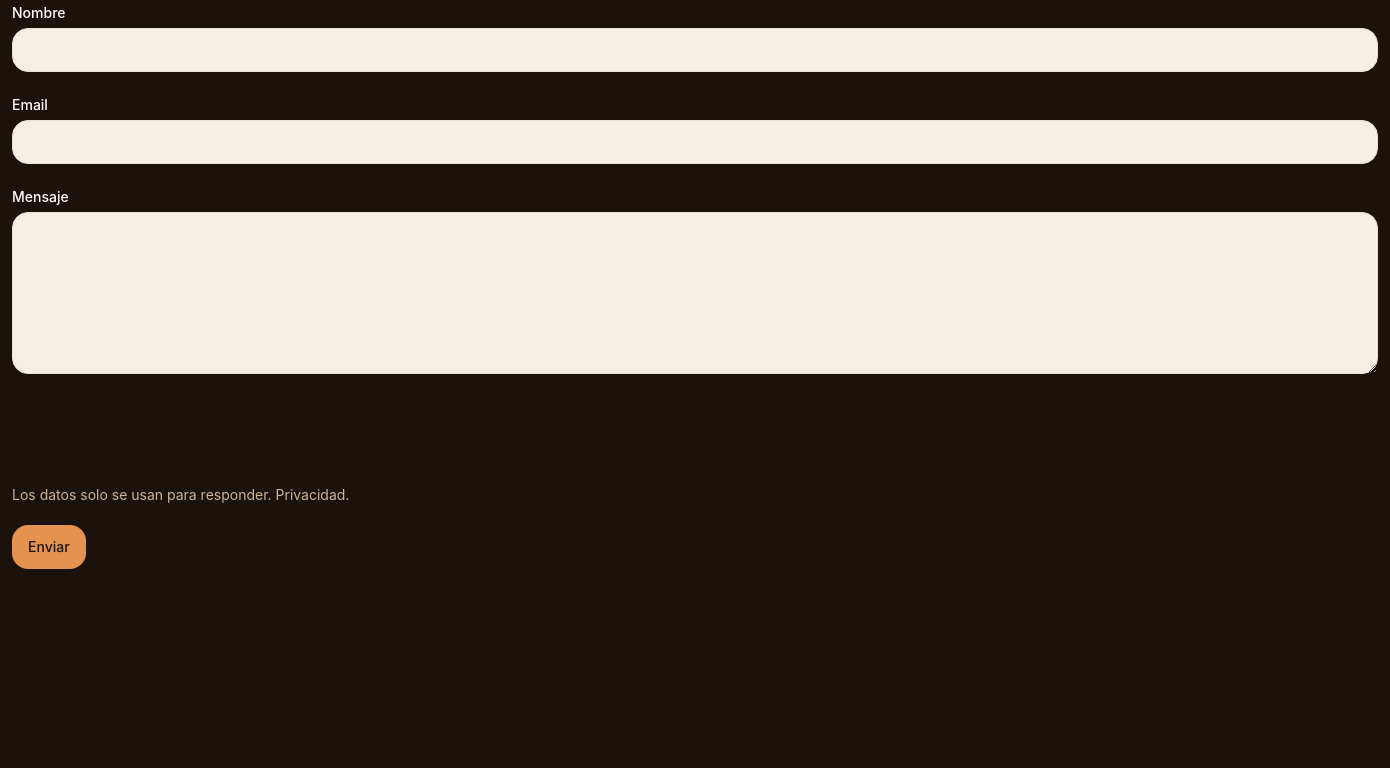
Test case: ContactForm › no envía sin token de Turnstile
Type "Ada" into the field labelled "Nombre".
click(695, 50); type("Ada")  # box [12, 28, 1378, 72]
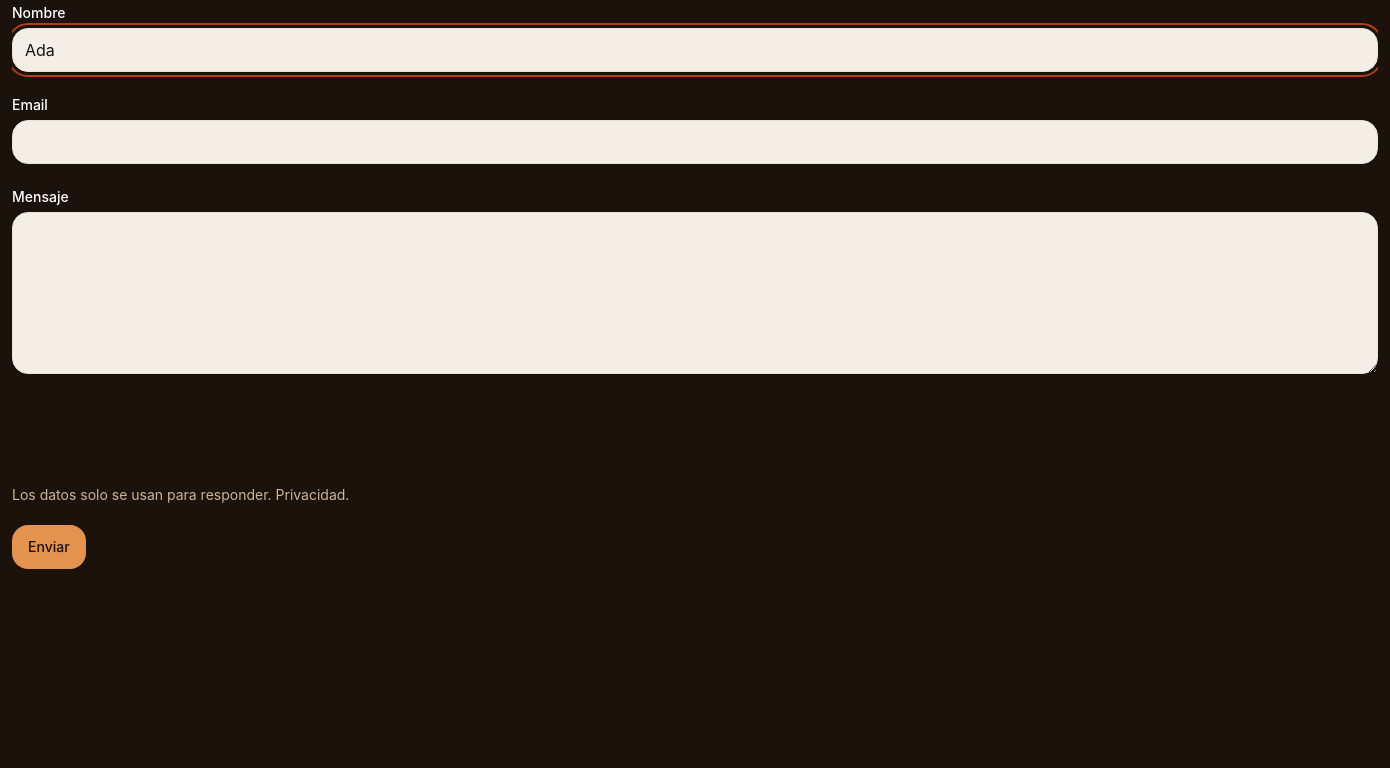
Type "ada@example.com" into the field labelled "Email".
click(695, 142); type("ada@example.com")  # box [12, 120, 1378, 164]
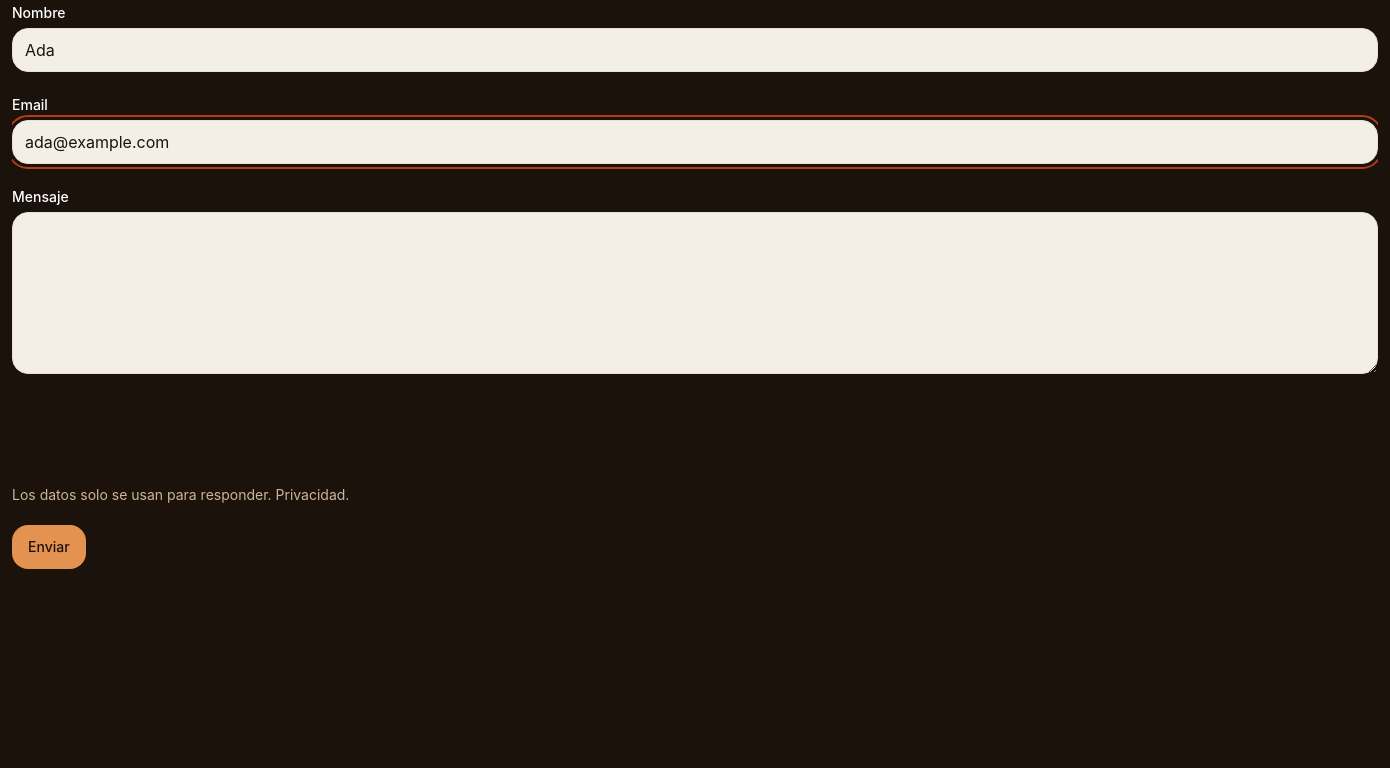
Type "Hay un brief." into the text box labelled "Mensaje".
click(695, 293); type("Hay un brief.")  # box [12, 212, 1378, 374]
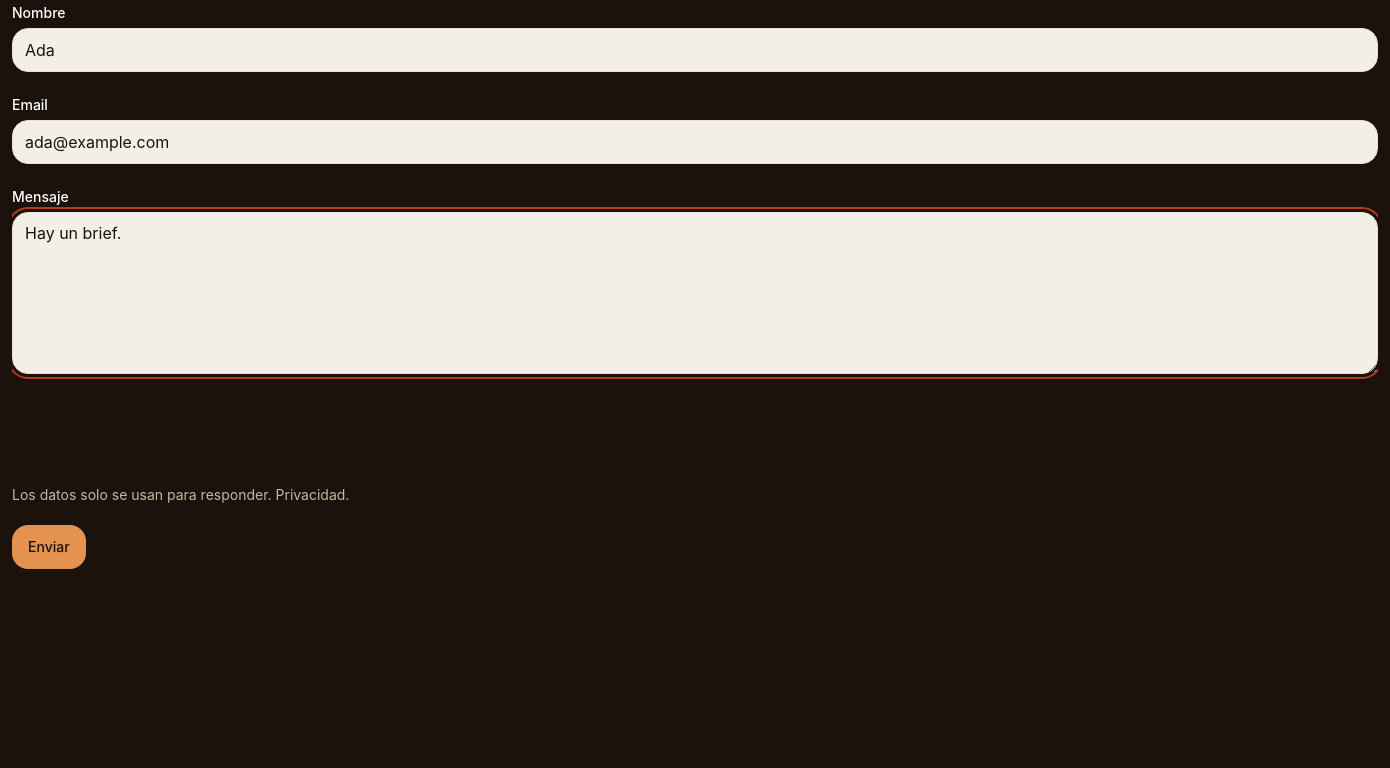
Click the button "Enviar".
click(49, 547)  # box [12, 525, 86, 569]
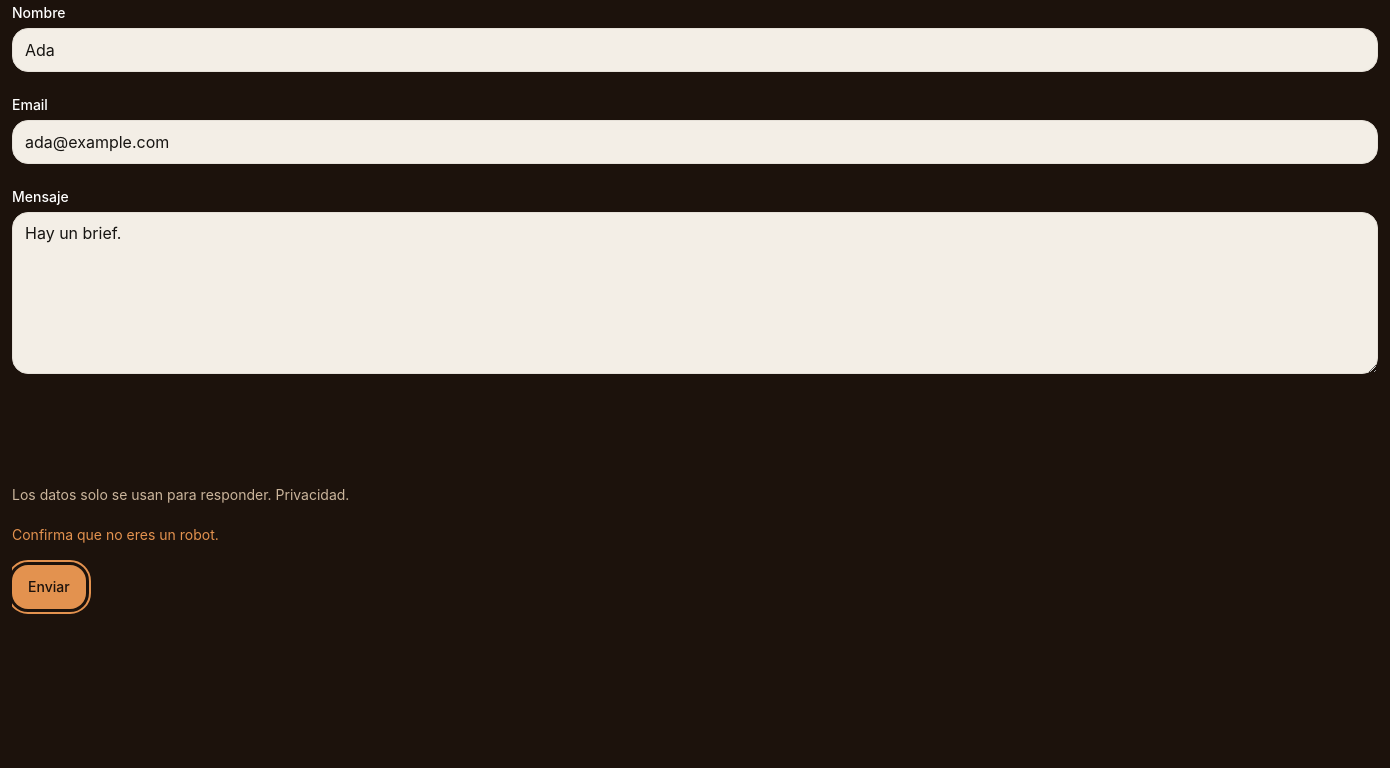
Check: the message shows "robot", box [12, 526, 219, 543]
